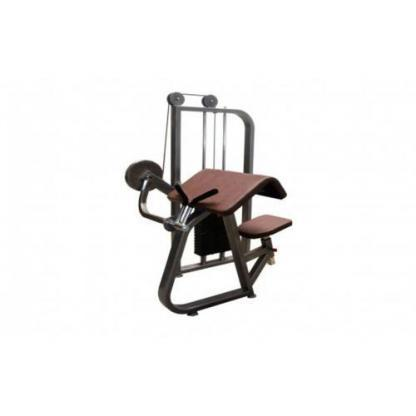arm curl machine: (126, 90, 293, 318)
